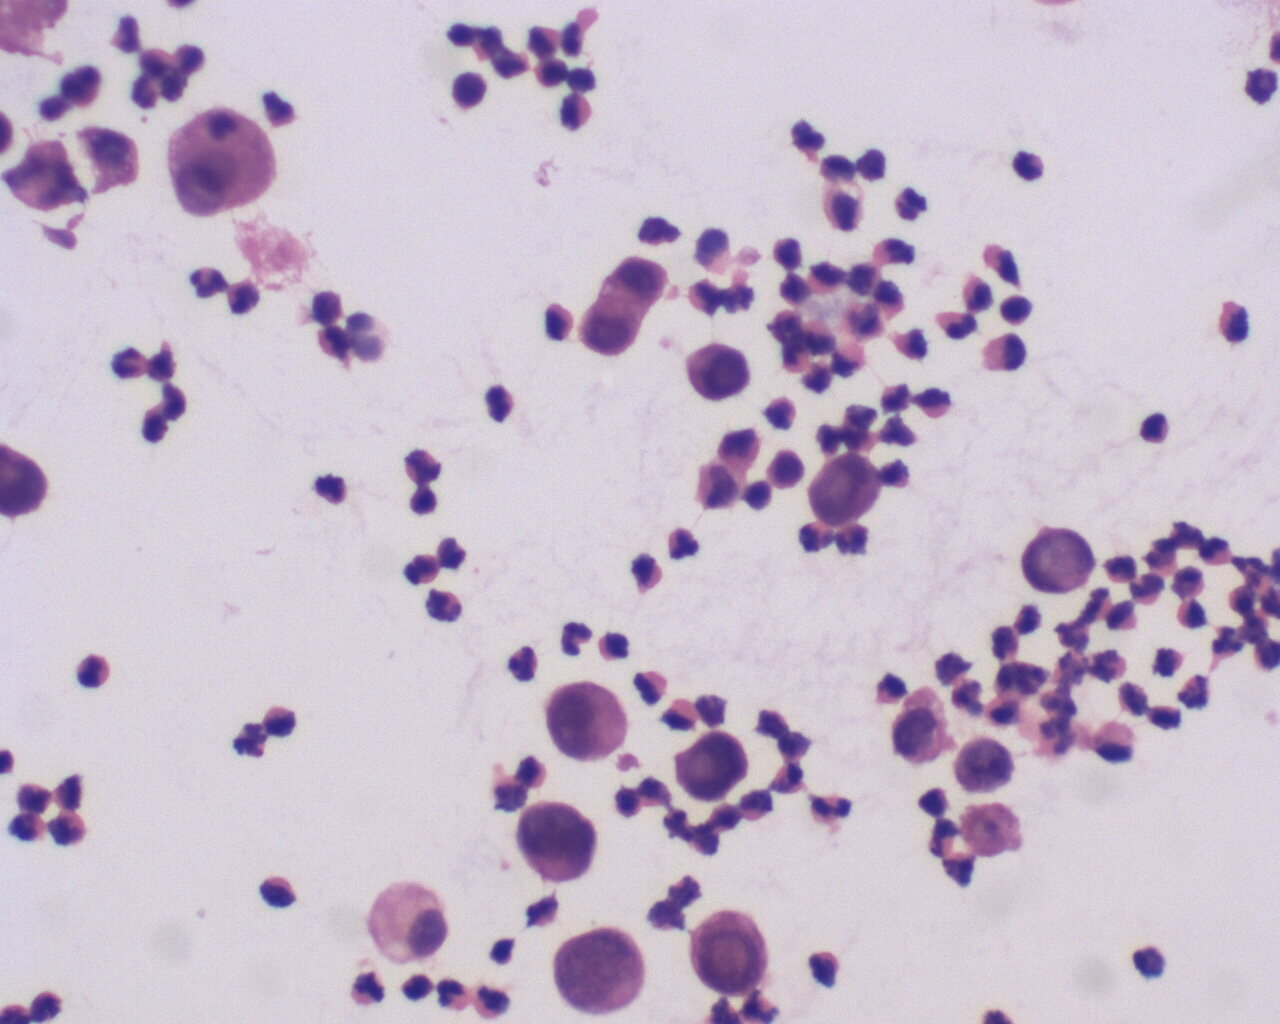ab: (548, 924, 650, 1018), (797, 446, 890, 532), (516, 794, 599, 888), (686, 905, 771, 995), (1011, 518, 1098, 605), (665, 728, 751, 802), (685, 338, 757, 410), (953, 730, 1018, 800)
histo: (364, 878, 448, 970)
lymph: (449, 68, 489, 118)
neutro: (251, 869, 304, 912), (424, 585, 465, 627), (309, 468, 351, 509), (805, 948, 844, 991), (185, 265, 228, 303), (483, 381, 519, 425), (665, 523, 701, 565), (498, 645, 537, 680)
